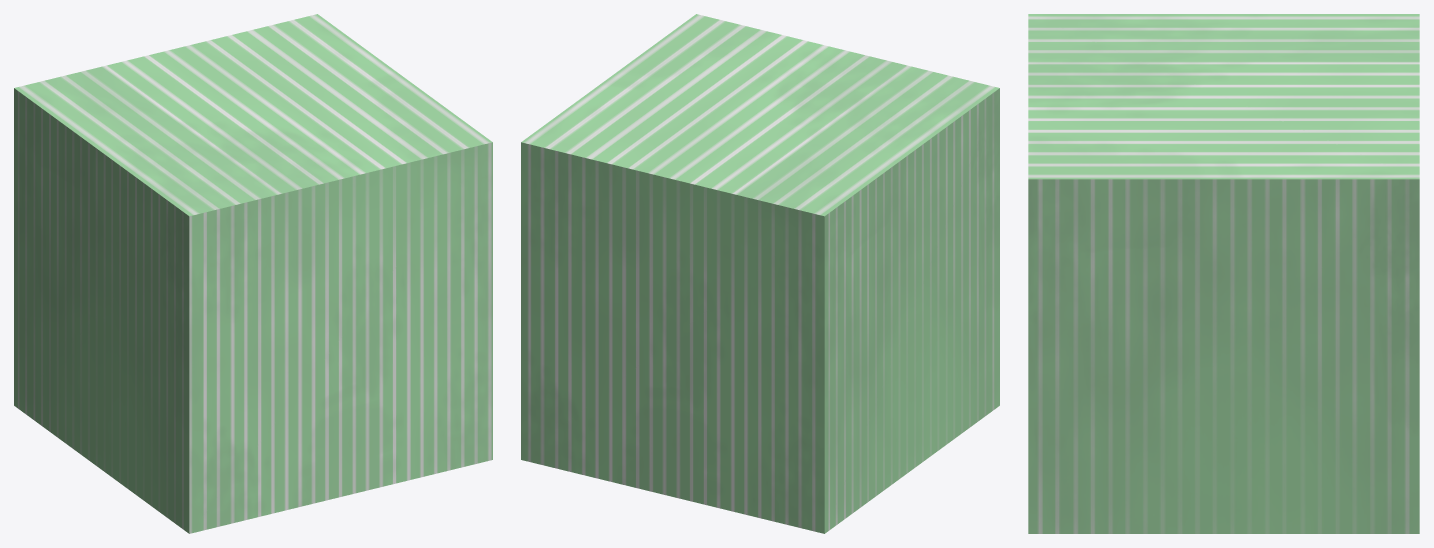
The model's file is Bedroom.FBX.
3 views of the same model, side by side, from view 1: azimuth 30°, elevation 25°; view 2: azimuth 150°, elevation 25°; view 3: azimuth 270°, elevation 25° (orthographic). The views are drawn at different scales.
Parts seen in each view (by area): view 1: Wall; view 2: Wall; view 3: Wall.
Part boxes in pixels (x1,y1,x2,y2): Wall: (14,14,492,533); Wall: (521,14,999,533); Wall: (1028,14,1419,533).
Bounding box in the file's own units: 300 × 300 × 300.
